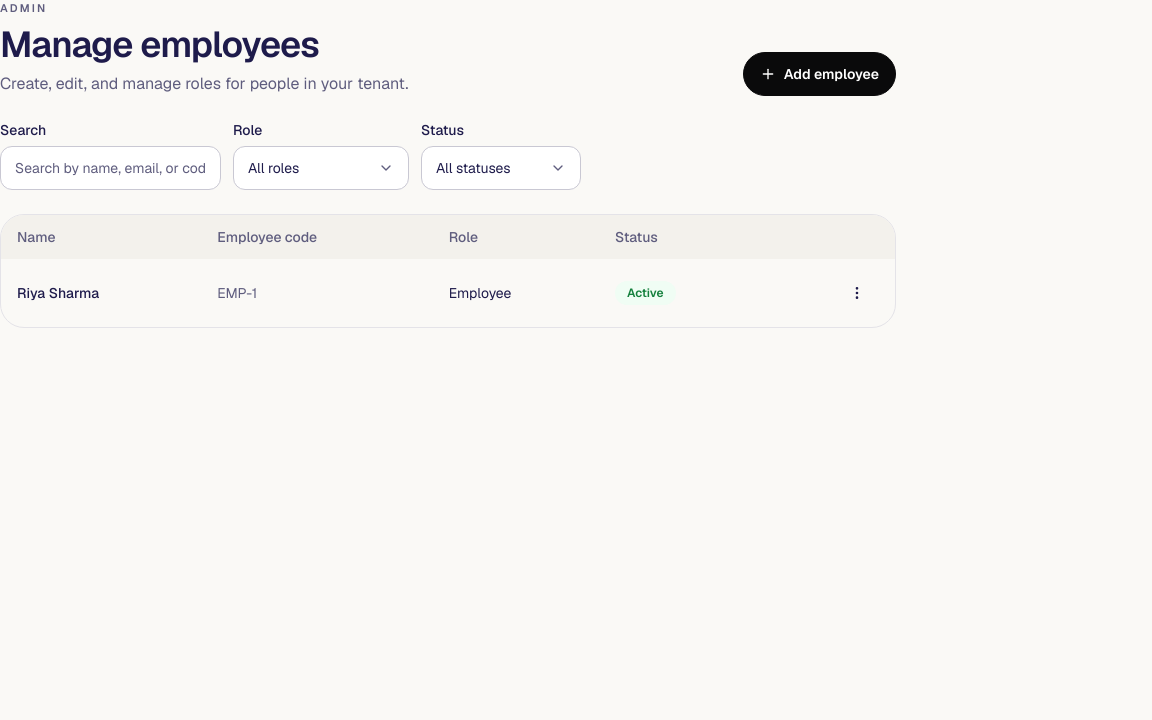
it: UsersPage (tenant admin employee management) › shows the backend's self-role-change refusal inline in the dialog
Click the button named "actions for riya sharma".
click(857, 293)  # box top-left (835, 271), bottom-right (879, 315)
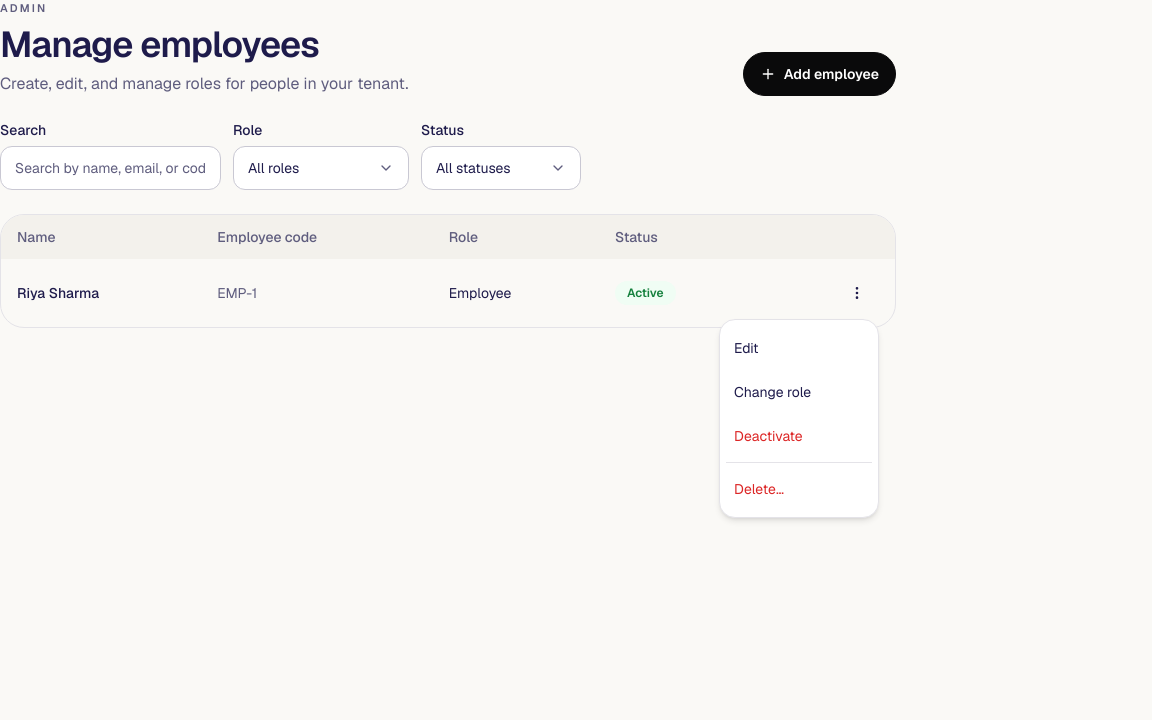
Click the menu item "Change role".
click(773, 392)  # box top-left (734, 383), bottom-right (811, 401)
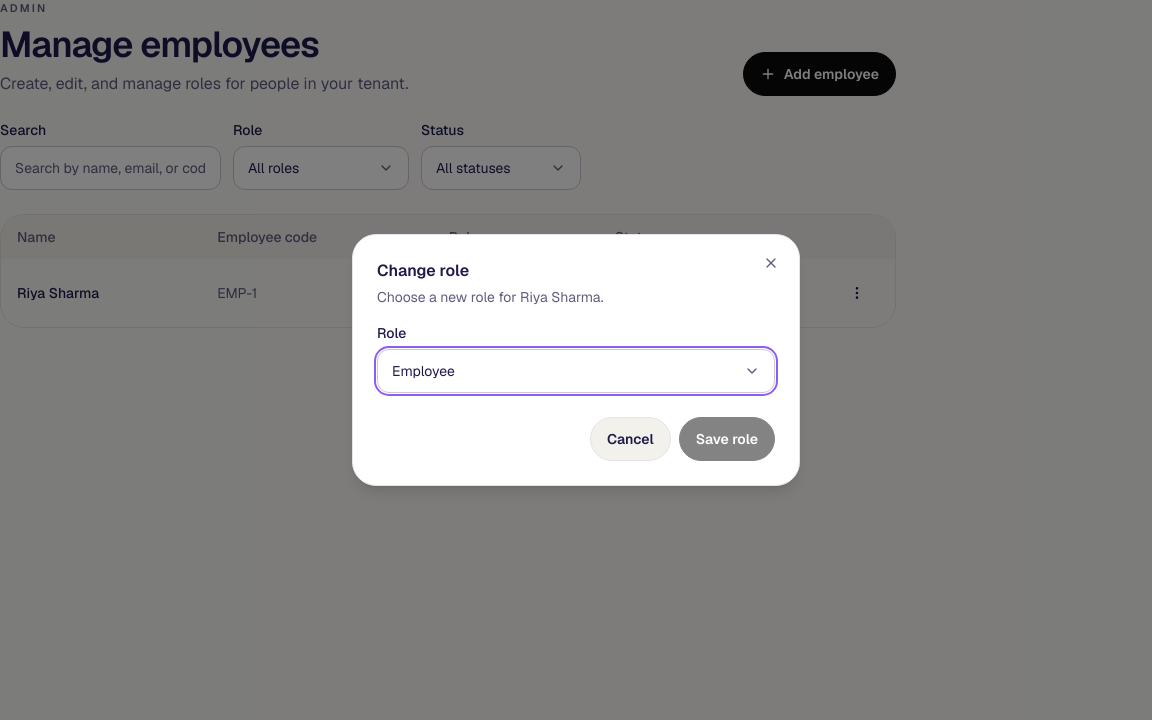
Click the dropdown named "Role".
click(423, 371)  # box top-left (377, 349), bottom-right (775, 393)
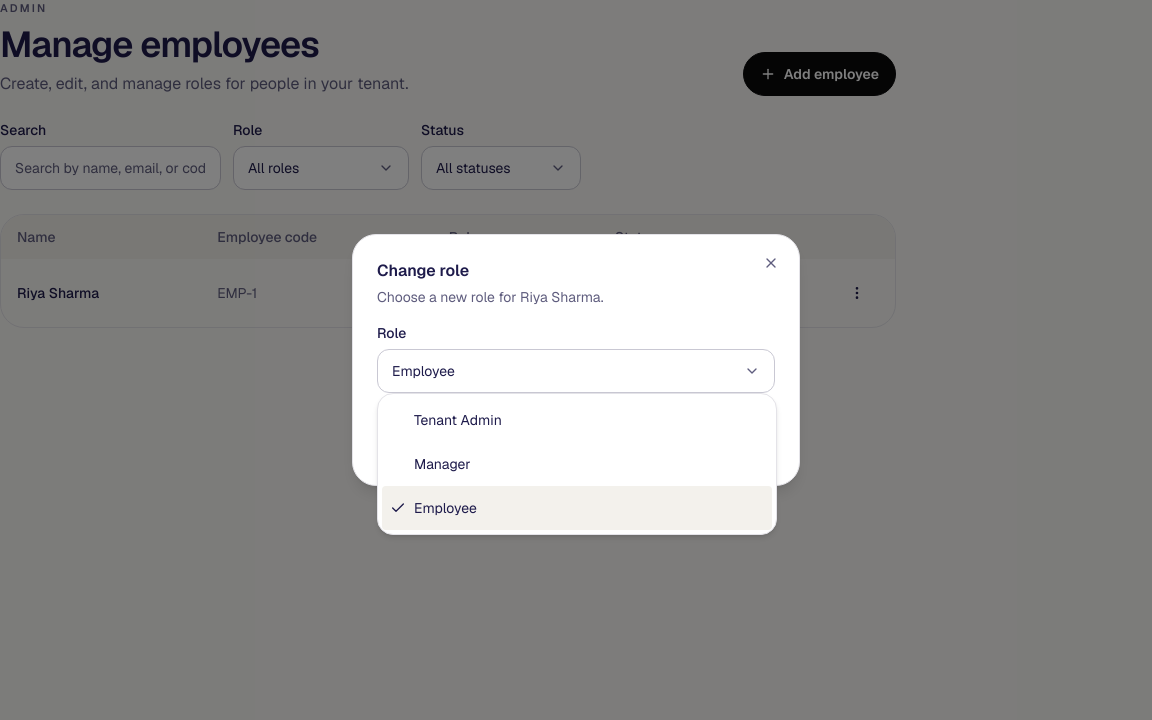
Click the option "Manager".
click(442, 464)  # box top-left (414, 455), bottom-right (471, 473)
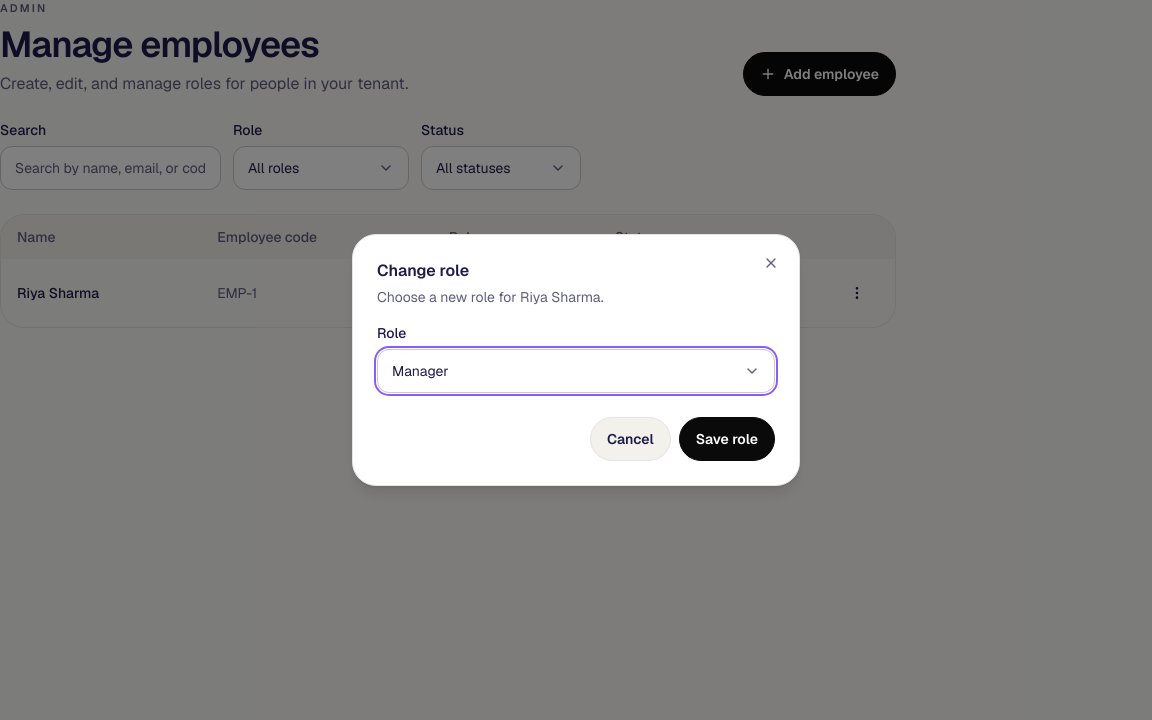
Click the button "Save role".
click(727, 439)  # box top-left (679, 417), bottom-right (775, 461)
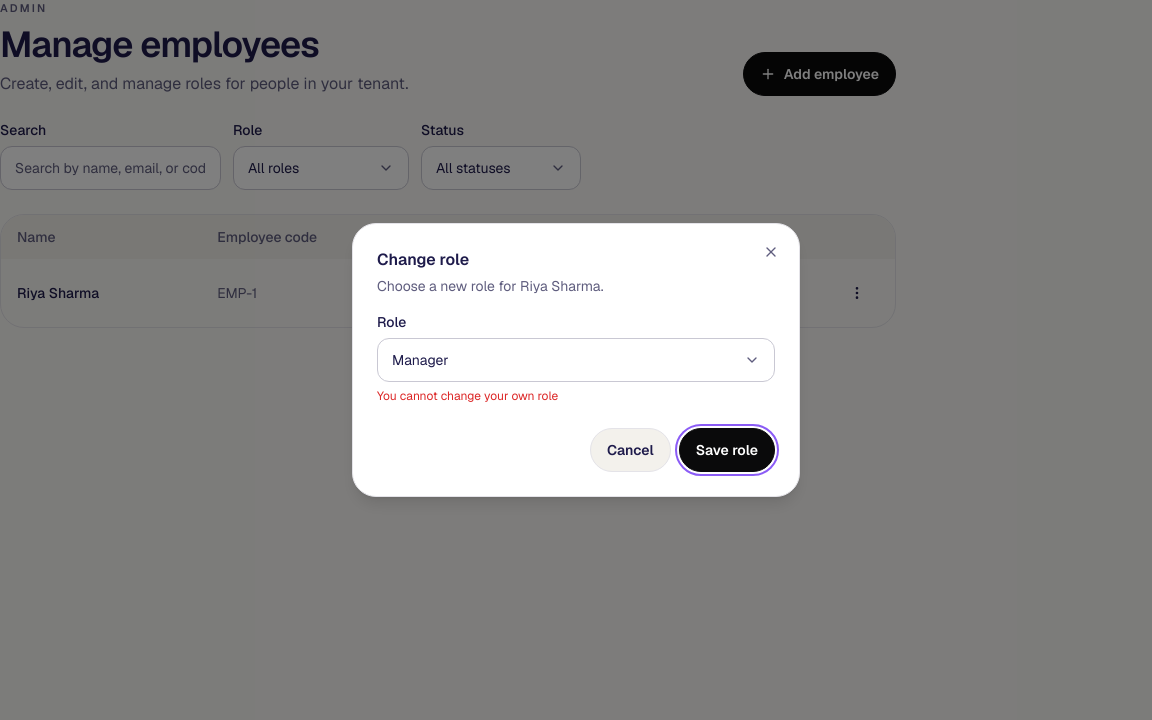
Expected: the heading "Change role" is shown, top-left (377, 249), bottom-right (469, 270)
Expected: the text "You cannot change your own role" is shown, top-left (377, 388), bottom-right (558, 404)
